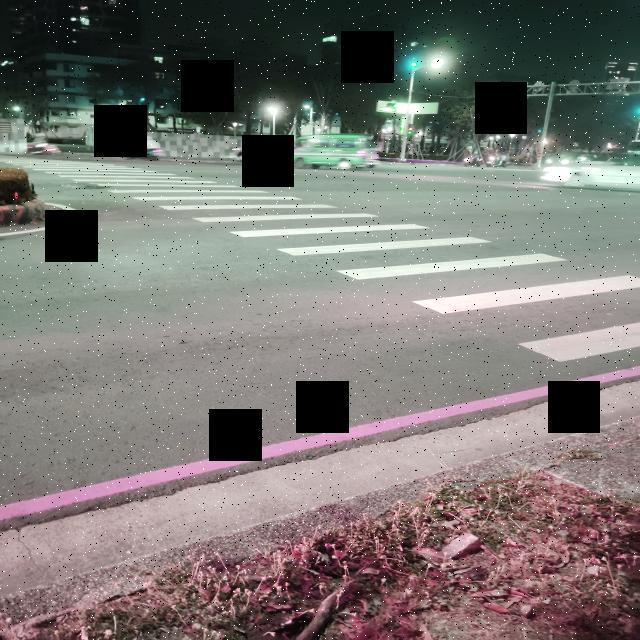zebra_crossing: (25, 160, 640, 368)
